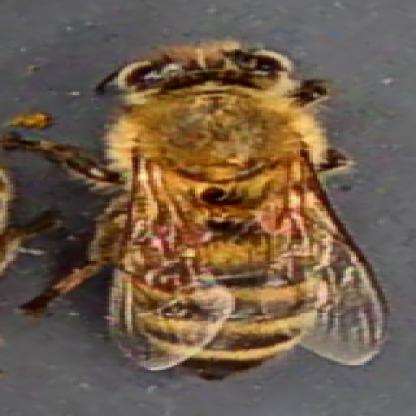bee: (98, 53, 356, 387)
vaoora: (139, 266, 181, 294), (146, 225, 174, 250)
